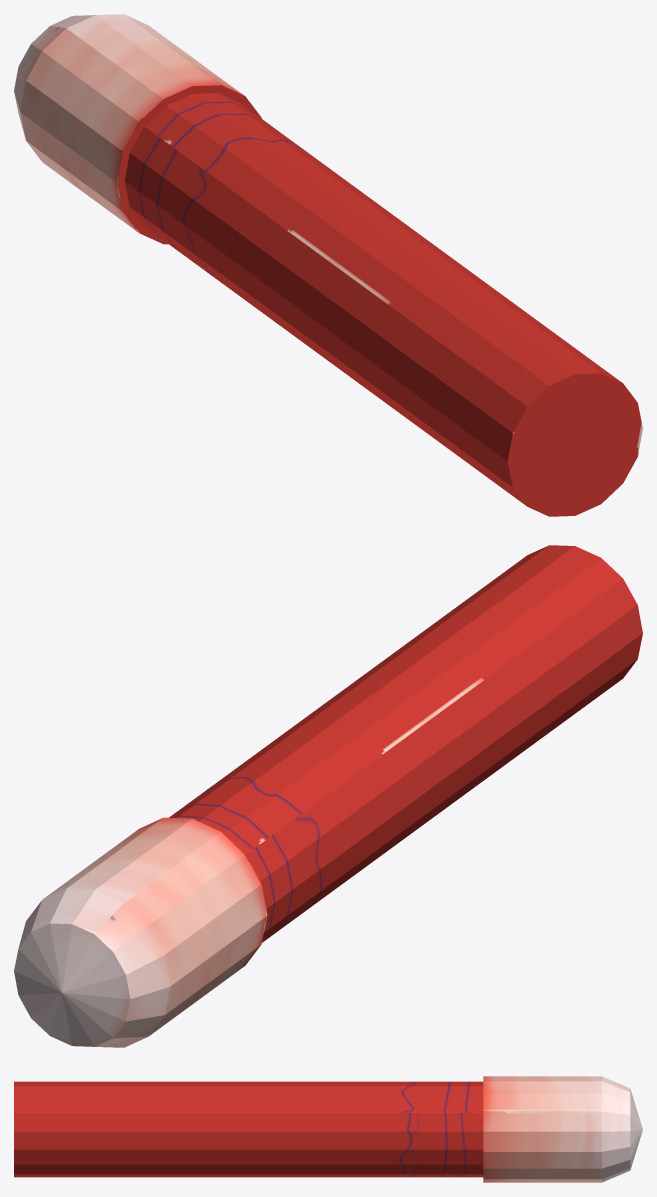
Rendered from flare.glb.
3 views of the same model, one above another, from view 1: azimuth 30°, elevation 25°; view 2: azimuth 150°, elevation 25°; view 3: azimuth 270°, elevation 25° (orthographic). The views are drawn at different scales.
Visible parts, largest first — view 1: Cylinder; view 2: Cylinder; view 3: Cylinder.
Part boxes in pixels (box(x1,y1,x2,y2)): Cylinder: box(14, 14, 642, 516); Cylinder: box(14, 545, 642, 1047); Cylinder: box(14, 1076, 642, 1182).
Bounding box in the file's own units: 0.3774 × 0.3774 × 2.23.
1 material, 1 textured.
